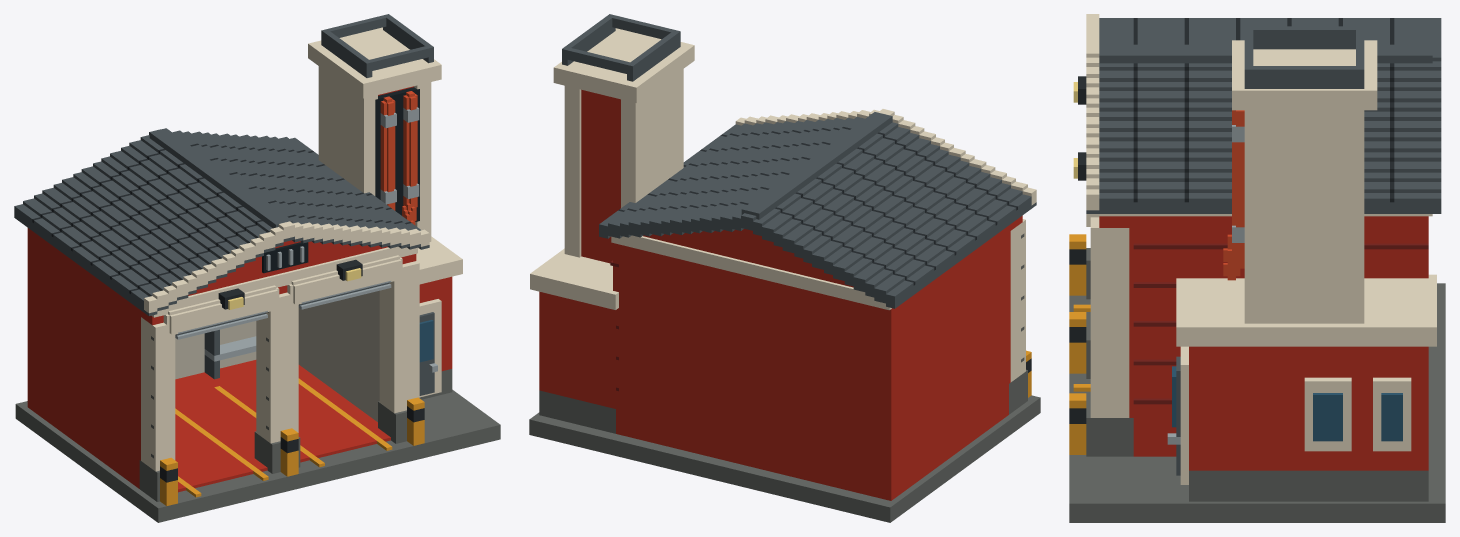
The model's file is fire_station.glb.
3 views of the same model, side by side, from view 1: azimuth 30°, elevation 25°; view 2: azimuth 150°, elevation 25°; view 3: azimuth 270°, elevation 25° (orthographic). The views are drawn at different scales.
Visible parts, largest first — view 1: fire_station; view 2: fire_station; view 3: fire_station.
Boxes of the visible parts, x1,y1,x2,y2 form: fire_station: (14,14,500,522); fire_station: (529,14,1040,522); fire_station: (1069,14,1445,522).
Size of the model in its own units: 7.5 by 7.02 by 5.28.
